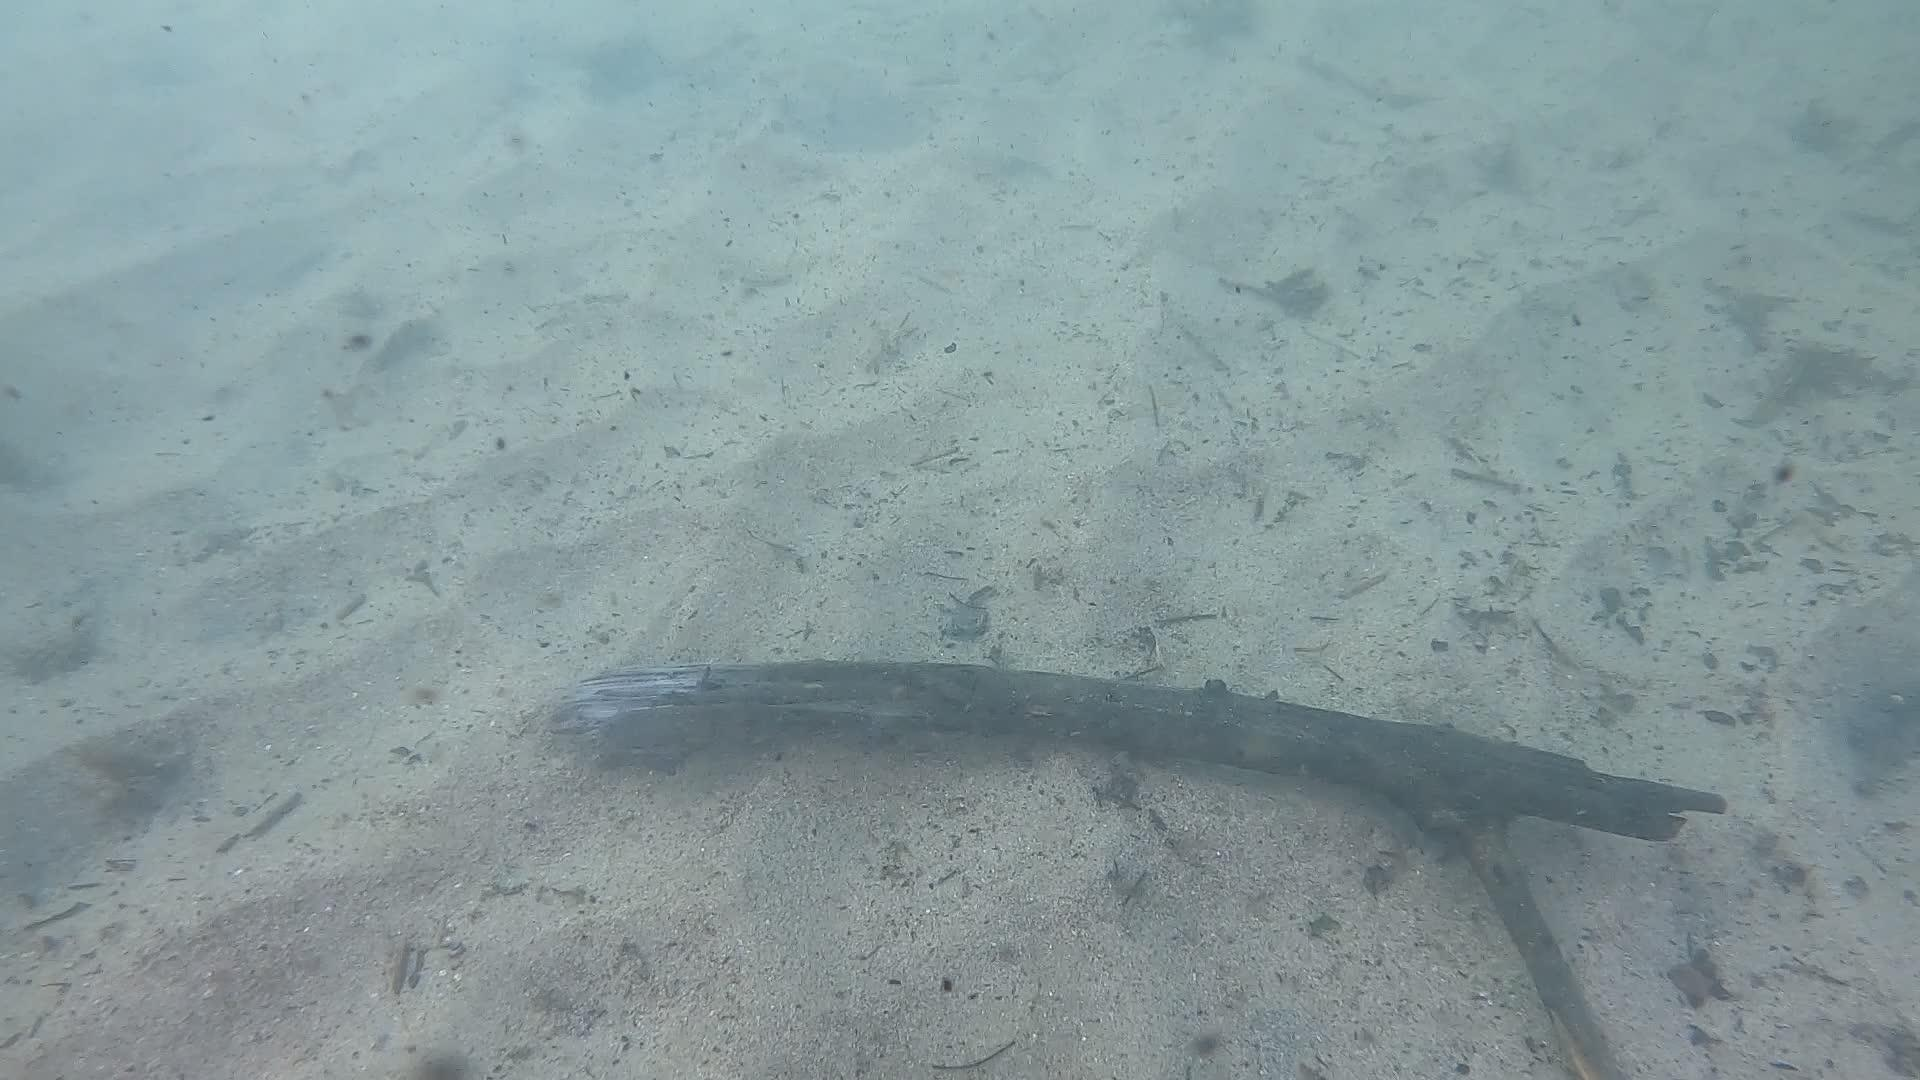wood: (545, 655, 1726, 1080)
